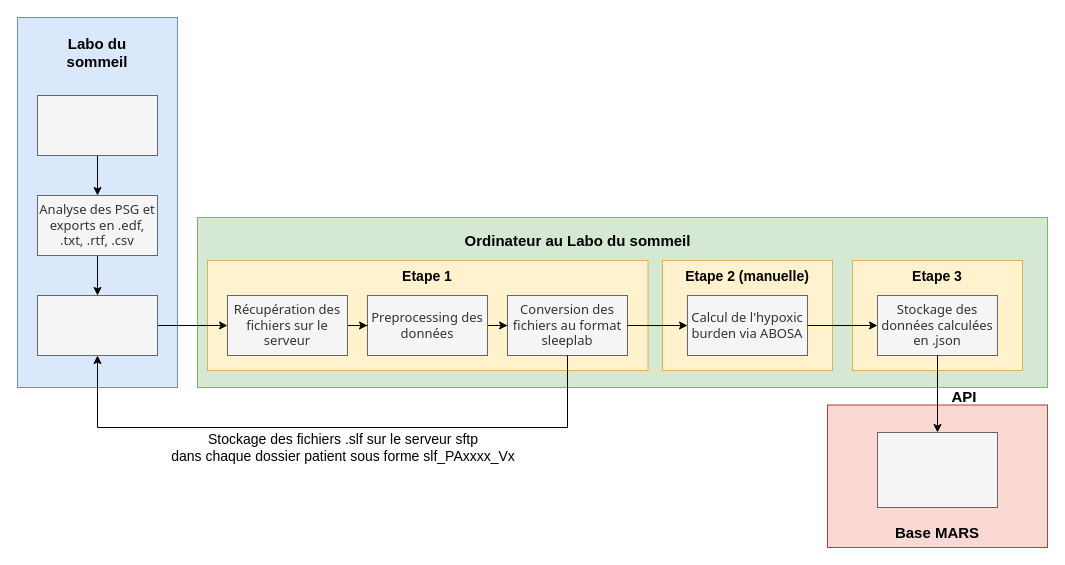
This 1065x565 diagram has some shape labels left out. The shapes that lost their labels are listed below. From the top down, each one's centre as x and y in pixels, then its label:
At pixel 97 125: "Récolte des données PSG".
At pixel 97 325: "Dump des fichiers sur le serveur sftp".
At pixel 937 470: "Ajout des résultats dans une table via méthode POST".
